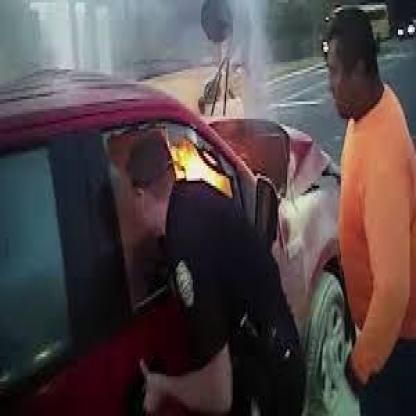fire: (156, 106, 257, 204)
